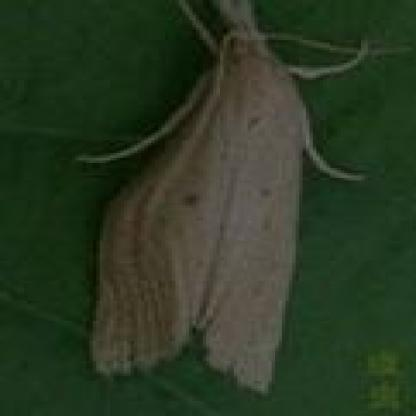stem-borer: (68, 0, 357, 393)
